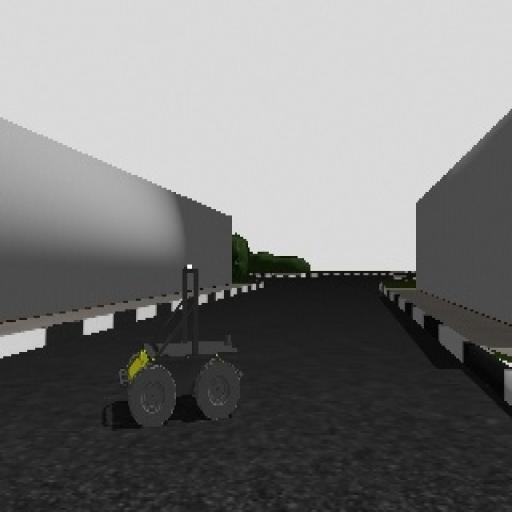huskya200: (112, 262, 244, 432)
